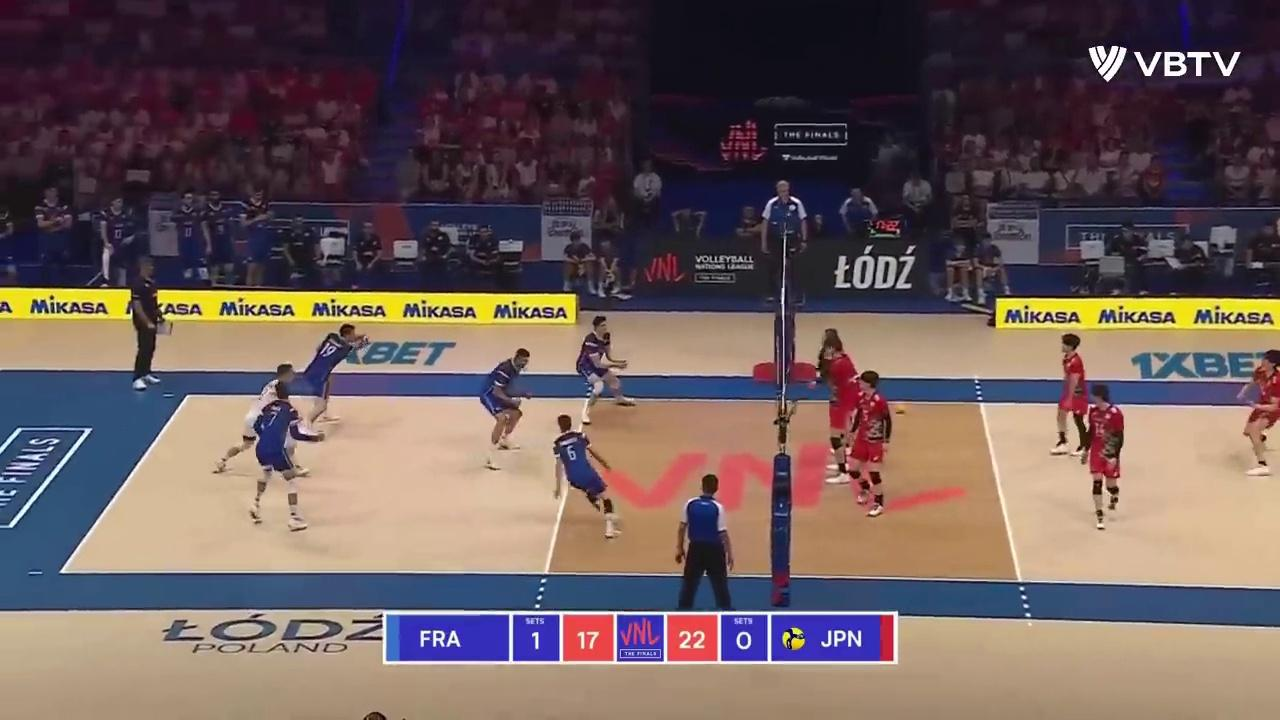ball: (893, 403, 906, 418)
